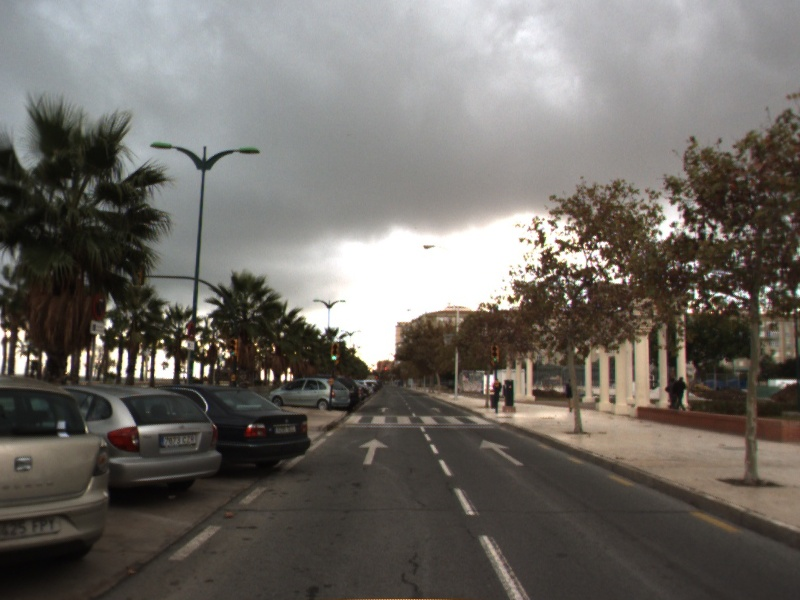STRAIGHT: (478, 438, 524, 466), (357, 437, 391, 466)
